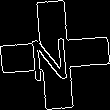N_N: (33, 28, 77, 82)
